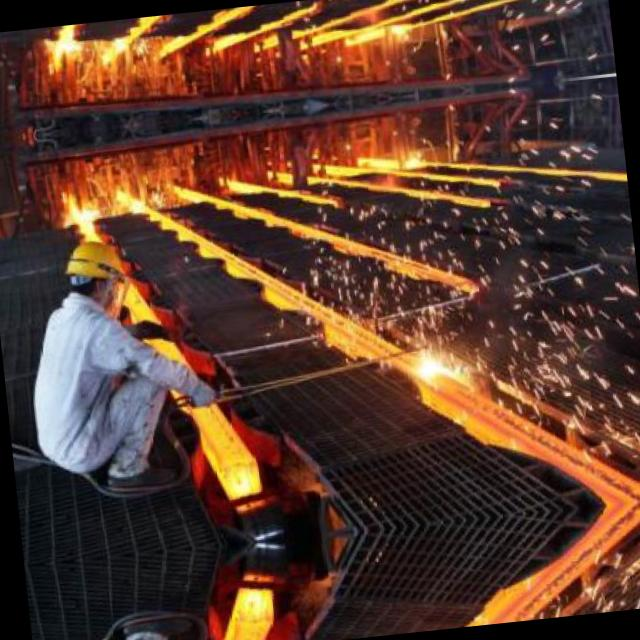helmet: (60, 237, 126, 314)
